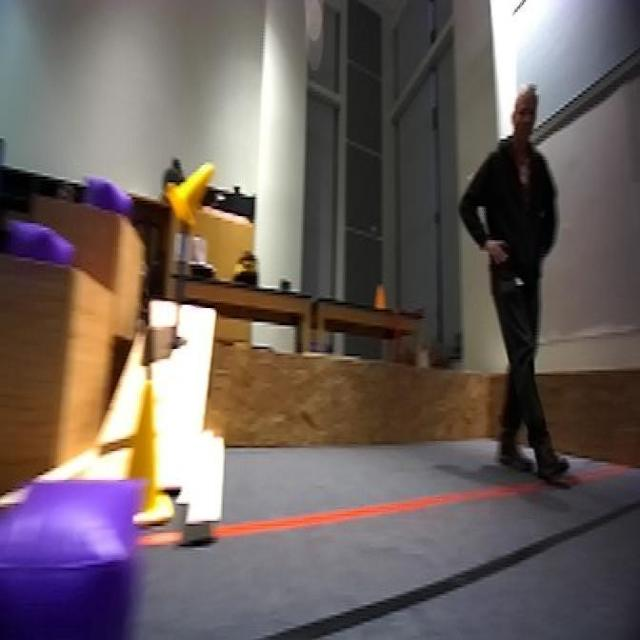frc_cone: (110, 375, 196, 548), (170, 153, 225, 232)
frc_cube: (0, 427, 157, 640), (2, 208, 88, 274), (82, 170, 123, 213)
